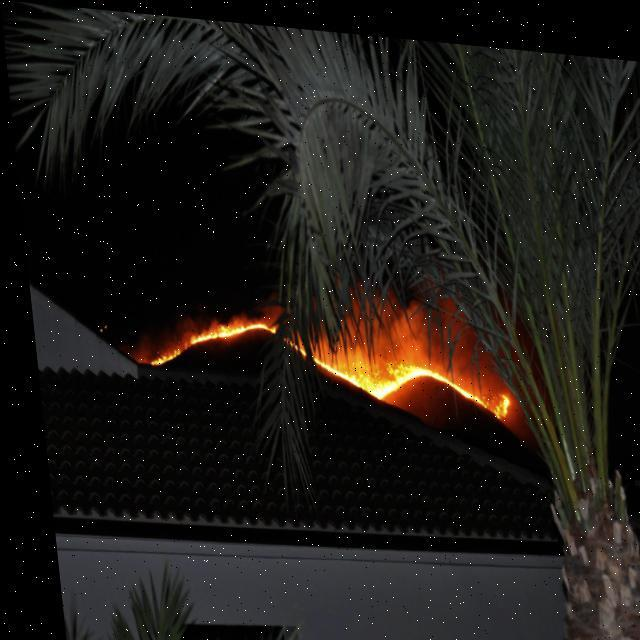Fire: (281, 310, 504, 416), (123, 286, 270, 374)
